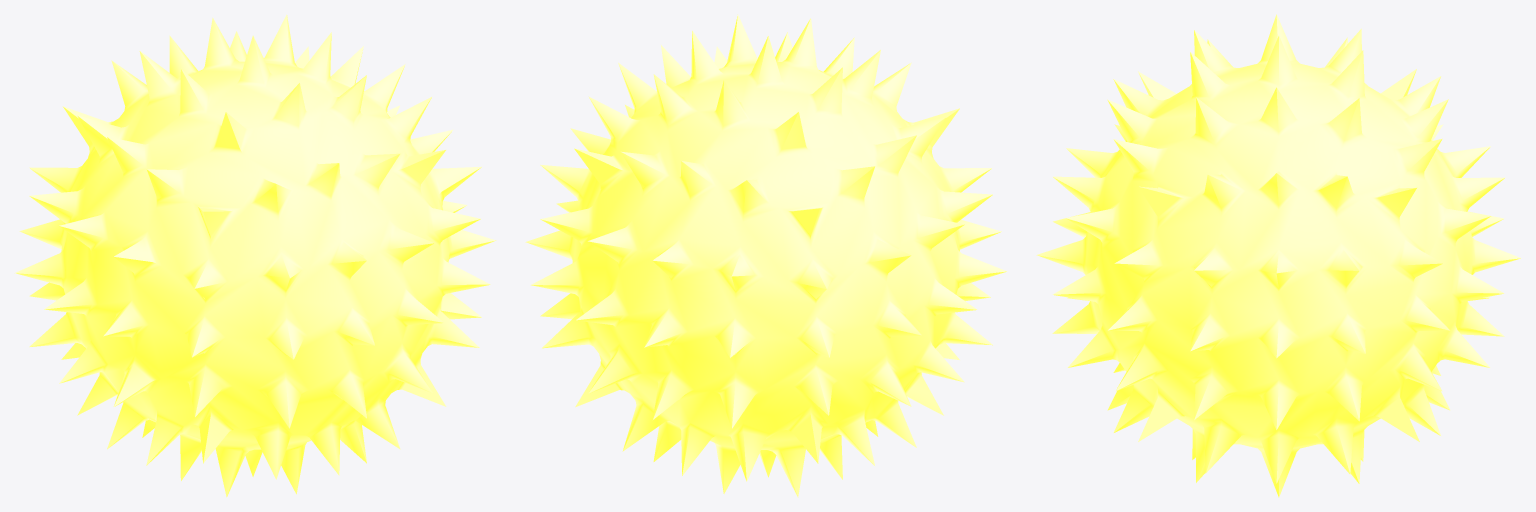
The model's file is gspikeBall.glb.
3 renders of one model, left to right at view 1: azimuth 30°, elevation 25°; view 2: azimuth 150°, elevation 25°; view 3: azimuth 270°, elevation 25°, orthographic.
Visible parts, largest first — view 1: Roundcube.001; view 2: Roundcube.001; view 3: Roundcube.001.
Boxes of the visible parts, x1=… form: Roundcube.001: x1=15, y1=14, x2=496, y2=497; Roundcube.001: x1=525, y1=14, x2=1007, y2=497; Roundcube.001: x1=1036, y1=14, x2=1520, y2=497.
Bounding box in the file's own units: 2.52 × 2.52 × 2.52.
